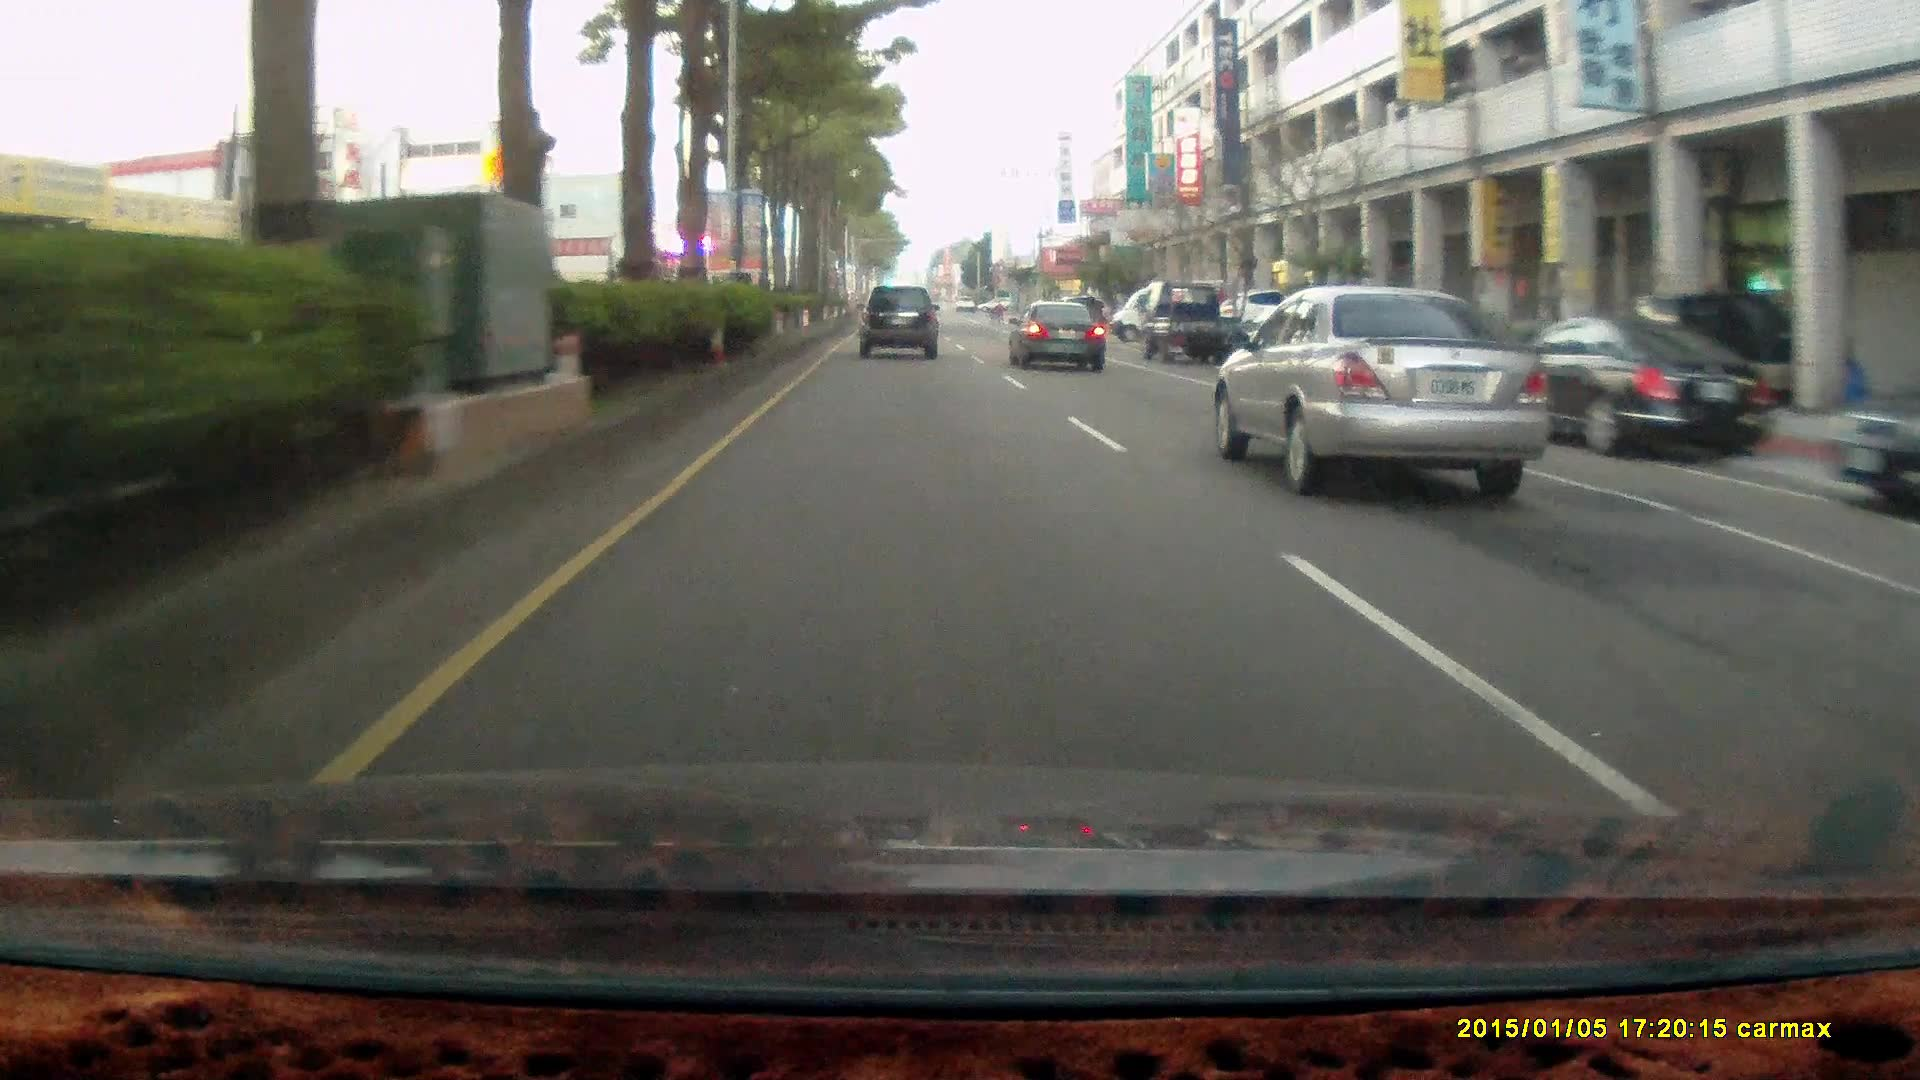vehicle: (1207, 287, 1544, 489), (1482, 306, 1776, 462), (1480, 309, 1776, 459), (1821, 388, 1920, 506), (1237, 301, 1373, 384), (1146, 280, 1254, 372), (1139, 277, 1238, 361), (1017, 297, 1116, 369), (1109, 280, 1222, 342), (1006, 295, 1104, 367), (858, 284, 942, 360), (857, 284, 939, 356)
